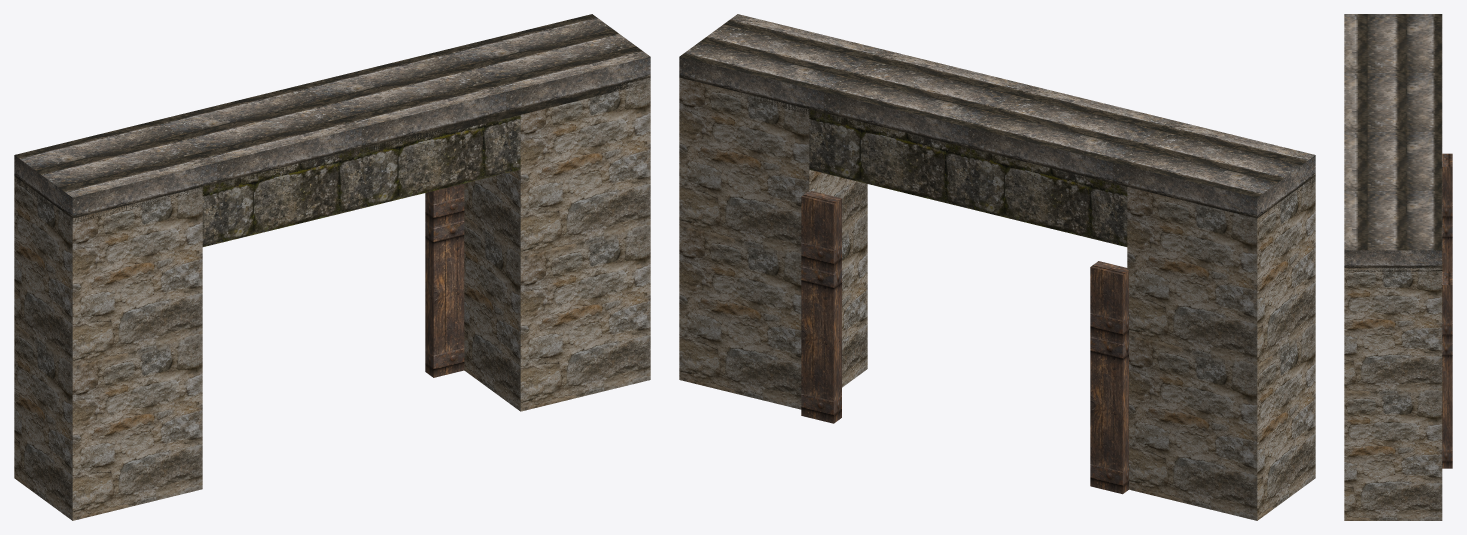
The model's file is toranlage_schwer_8m.glb.
3 views of the same model, side by side, from view 1: azimuth 30°, elevation 25°; view 2: azimuth 150°, elevation 25°; view 3: azimuth 270°, elevation 25° (orthographic). The views are drawn at different scales.
Parts seen in each view (by area): view 1: part_tuffmauer_moertel, part_treppenstein_abgelaufen, part_tuffstein_moosig, part_holz_tor_vertikal; view 2: part_tuffmauer_moertel, part_treppenstein_abgelaufen, part_tuffstein_moosig, part_holz_tor_vertikal; view 3: part_treppenstein_abgelaufen, part_tuffmauer_moertel, part_holz_tor_vertikal.
Boxes of the visible parts, x1,y1,x2,y2 form: part_tuffmauer_moertel: (14,78,650,520); part_treppenstein_abgelaufen: (14,14,650,223); part_tuffstein_moosig: (202,115,520,246); part_holz_tor_vertikal: (425,183,464,377); part_tuffmauer_moertel: (679,77,1315,520); part_treppenstein_abgelaufen: (679,14,1315,222); part_tuffstein_moosig: (809,109,1127,246); part_holz_tor_vertikal: (801,191,1128,494); part_treppenstein_abgelaufen: (1344,14,1442,271); part_tuffmauer_moertel: (1344,267,1442,520); part_holz_tor_vertikal: (1442,153,1452,468).
Size of the model in its own units: 8 by 4.28 by 1.55.
4 materials, 4 textured.
